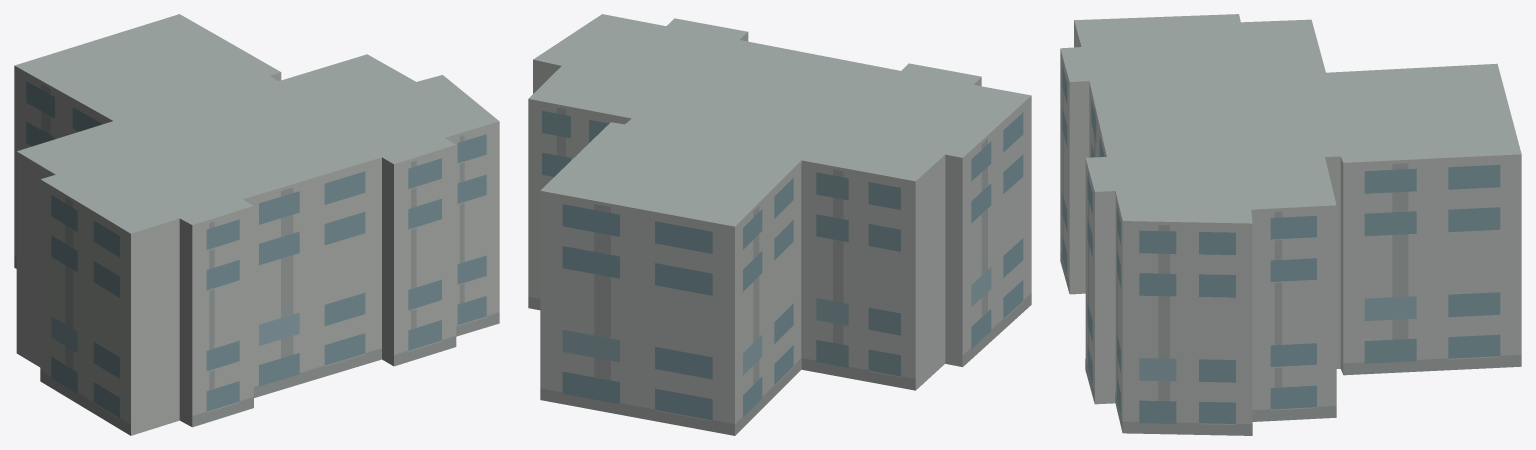
File: survey-upis-32491237.glb
3 views of the same model, side by side, from view 1: azimuth 30°, elevation 25°; view 2: azimuth 150°, elevation 25°; view 3: azimuth 270°, elevation 25° (orthographic). The views are drawn at different scales.
Visible parts, largest first — view 1: survey-upis-32491237.tmp; view 2: survey-upis-32491237.tmp; view 3: survey-upis-32491237.tmp.
Boxes of the visible parts, box(x1,y1,x2,y2) form: survey-upis-32491237.tmp: box(14, 14, 499, 435); survey-upis-32491237.tmp: box(528, 14, 1031, 435); survey-upis-32491237.tmp: box(1060, 14, 1521, 435).
Size of the model in its own units: 32.28 by 15.25 by 30.04.
